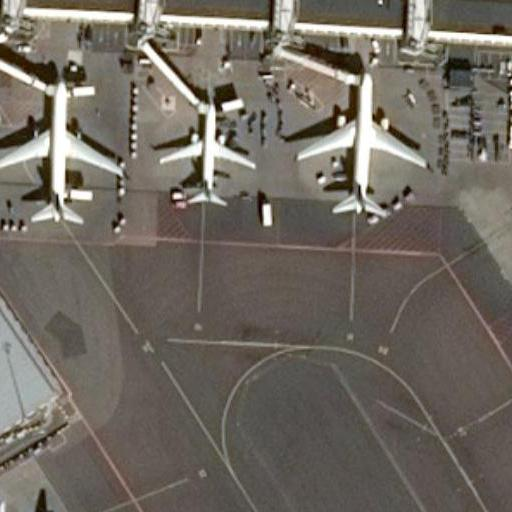Aircraft: (294, 68, 426, 220), (0, 69, 122, 231), (153, 92, 256, 209)
